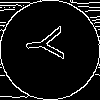Y: (25, 25, 74, 63)
